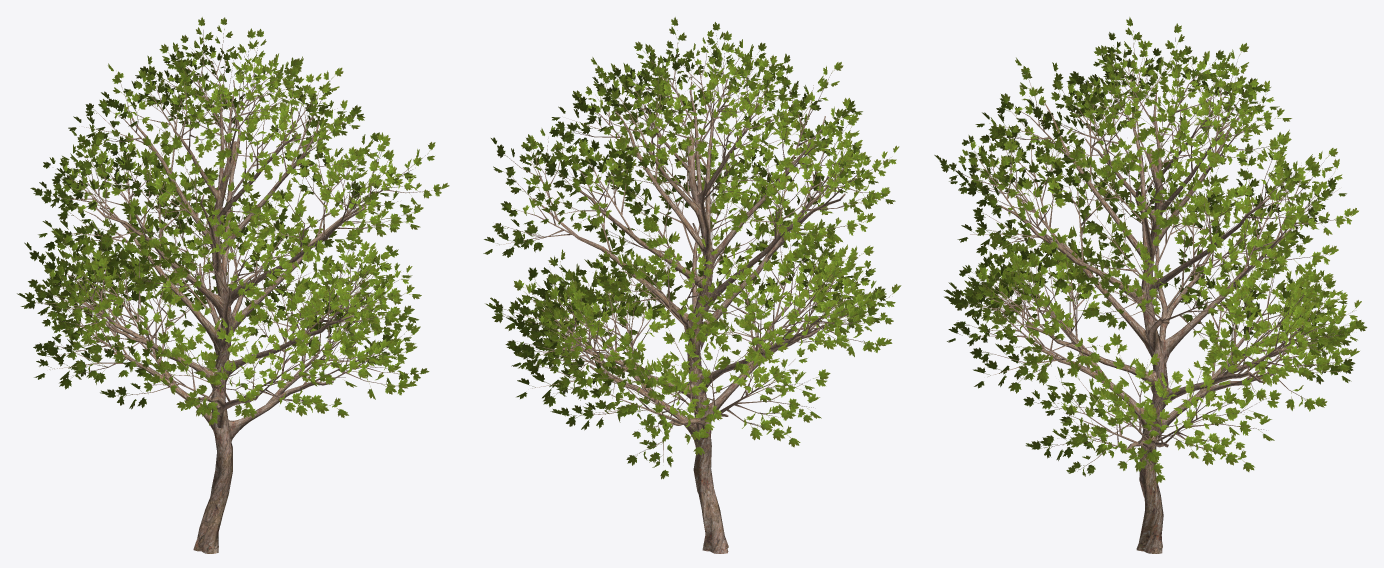
File: bordo.glb
The picture shows the model from 3 angles, left to right: view 1: azimuth 30°, elevation 25°; view 2: azimuth 150°, elevation 25°; view 3: azimuth 270°, elevation 25°; orthographic projection. The views are drawn at different scales.
Visible parts, largest first — view 1: Tree_1, Tree_0; view 2: Tree_1, Tree_0; view 3: Tree_1, Tree_0.
Boxes of the visible parts, x1,y1,x2,y2 form: Tree_1: (17, 17, 449, 425); Tree_0: (35, 29, 431, 553); Tree_1: (483, 17, 901, 479); Tree_0: (497, 38, 889, 553); Tree_1: (934, 17, 1367, 483); Tree_0: (943, 31, 1352, 553).
Size of the model in its own units: 4.95 by 5.78 by 4.5.
2 materials, 2 textured.
